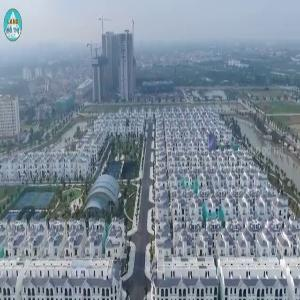drone: (188, 120, 229, 161)
